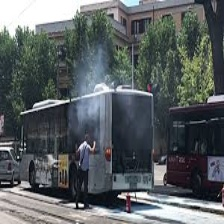smoke: (72, 57, 115, 126)
